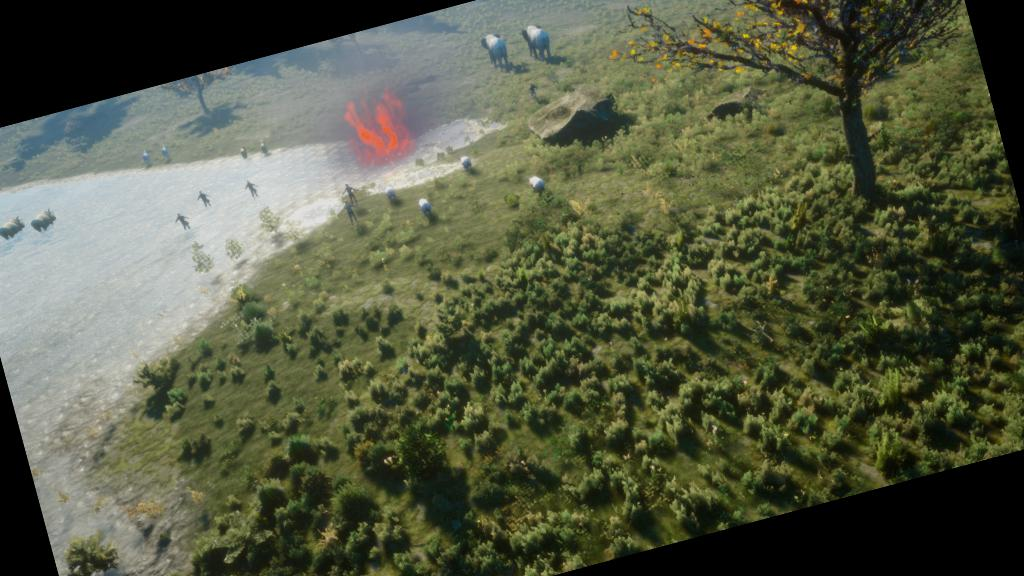elephant: (514, 12, 565, 68), (472, 24, 518, 78)
human: (168, 206, 200, 238), (336, 195, 364, 230), (336, 177, 364, 210), (241, 174, 267, 206), (192, 184, 218, 213), (522, 79, 544, 104)
pig: (411, 191, 441, 223), (522, 171, 550, 198), (454, 151, 480, 177), (378, 182, 402, 208)
rhinoceros: (26, 201, 66, 241), (0, 212, 32, 245)
zebra: (132, 144, 159, 171), (158, 139, 176, 163)
